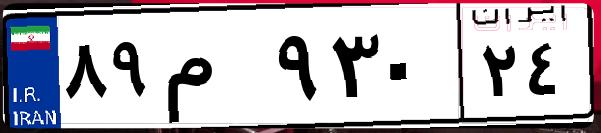0: (385, 28, 445, 110)
2: (475, 38, 525, 113)
3: (330, 28, 385, 110)
4: (525, 38, 570, 115)
8: (57, 26, 110, 100)
9: (270, 28, 330, 110), (110, 28, 158, 98)
م: (158, 20, 270, 120)
